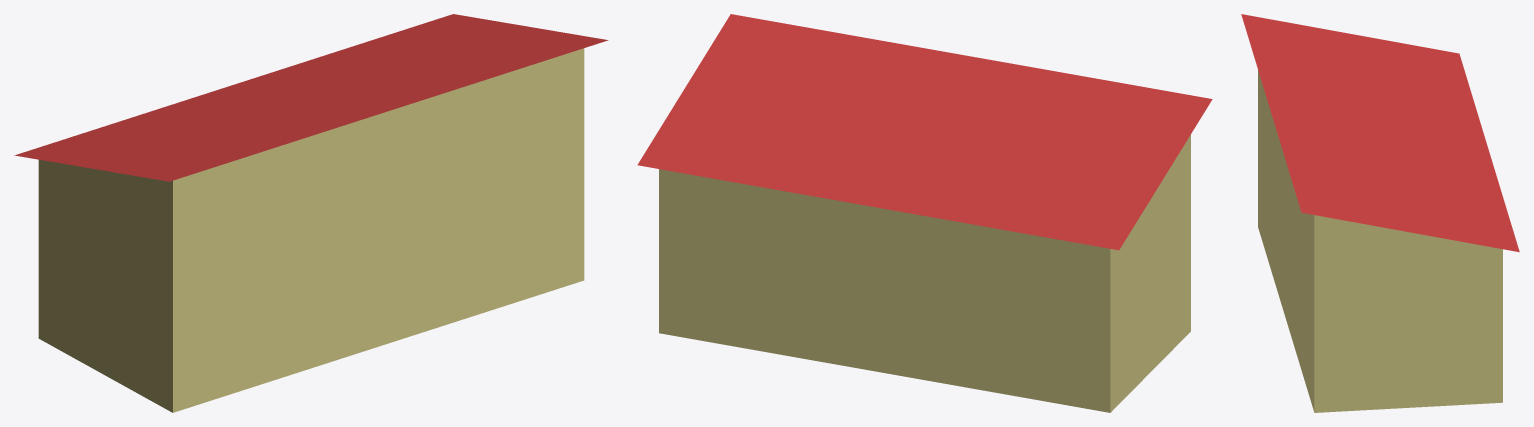
3 renders of one model, left to right at view 1: azimuth 30°, elevation 25°; view 2: azimuth 150°, elevation 25°; view 3: azimuth 270°, elevation 25°, orthographic. The views are drawn at different scales.
Size of the model in its own units: 16.65 by 9.31 by 7.64.
